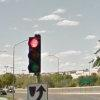Traffic light: (24, 28, 52, 79)
